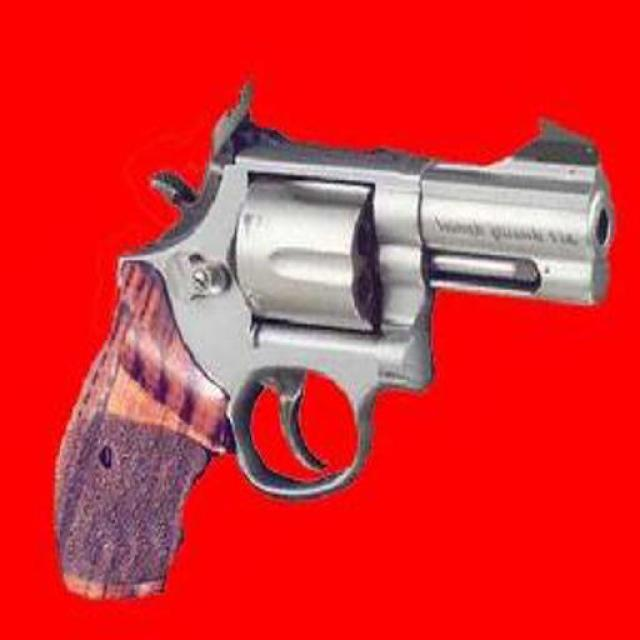pistol: (49, 119, 614, 605)
